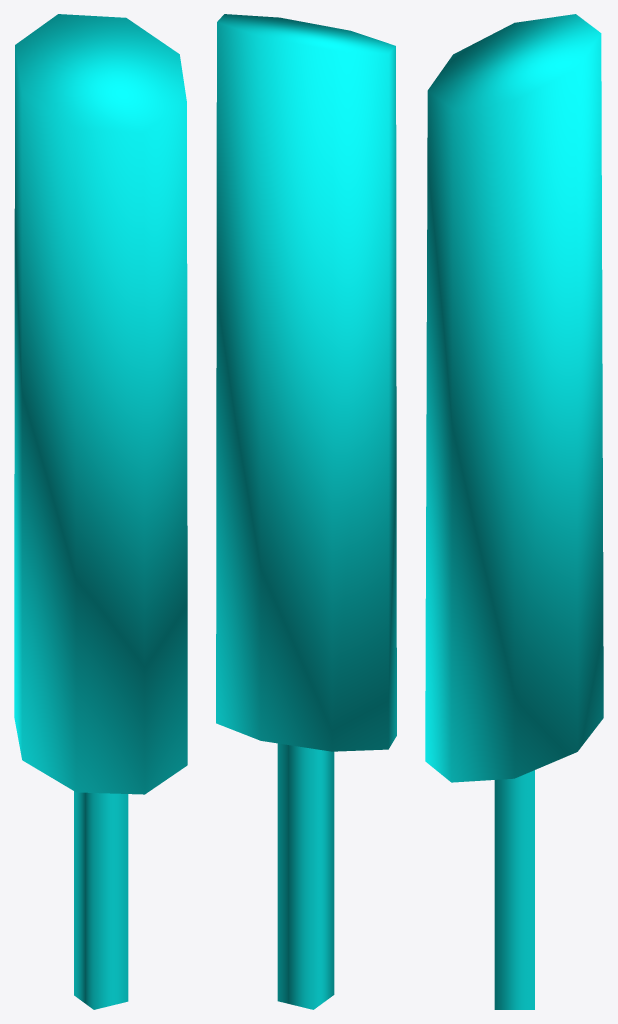
File: Piruleta_Tree_LP.fbx
3 views of the same model, side by side, from view 1: azimuth 30°, elevation 25°; view 2: azimuth 150°, elevation 25°; view 3: azimuth 270°, elevation 25° (orthographic). The views are drawn at different scales.
Visible parts, largest first — view 1: Piruleta LP; view 2: Piruleta LP; view 3: Piruleta LP.
Part boxes in pixels (x1,y1,x2,y2): Piruleta LP: (14,14,187,1009); Piruleta LP: (216,14,396,1009); Piruleta LP: (425,14,603,1009).
Bounding box in the file's own units: 138 × 795 × 133.
